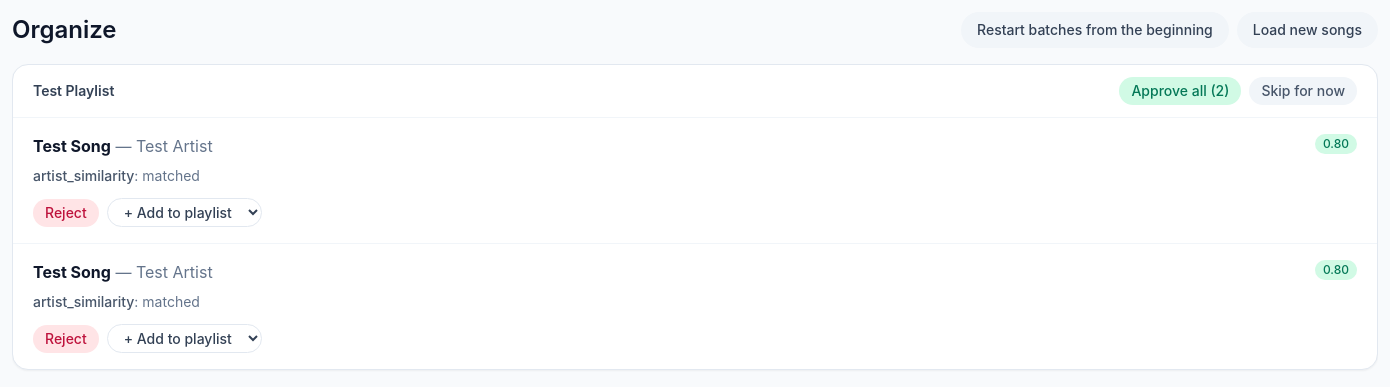
Test: ReviewQueue › keeps songs that failed to approve visible after a partial Approve all failure
Check: the list item with test id "queue-item-1" is shown, box 13,118 -> 1377,243
Click the button "Approve all (2)" at [1180, 91], box 1119,77 -> 1241,105
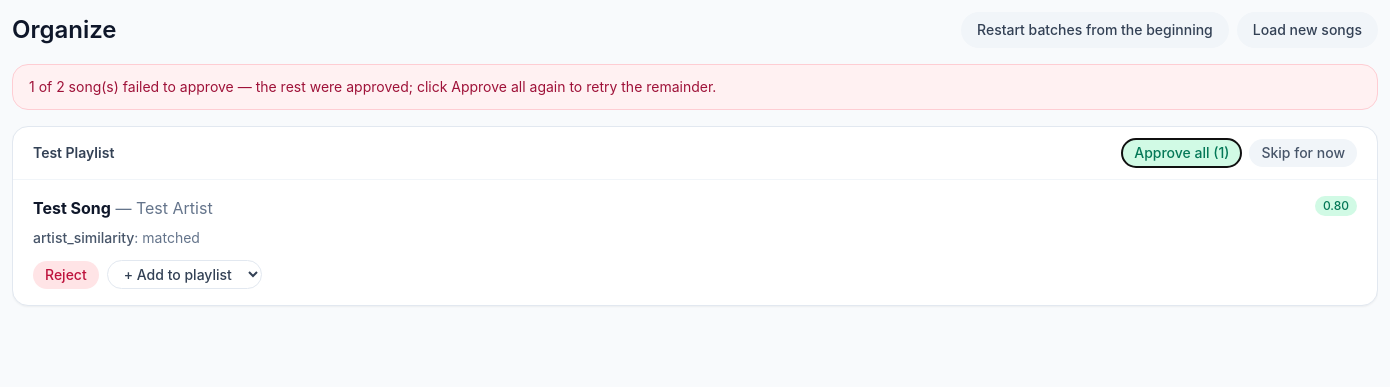
Check: the list item with test id "queue-item-2" is shown, box 13,180 -> 1377,305
Check: the list item with test id "queue-item-1" is gone
Check: the message shows "1 of 2 song(s) failed to approve", box 29,78 -> 716,95
